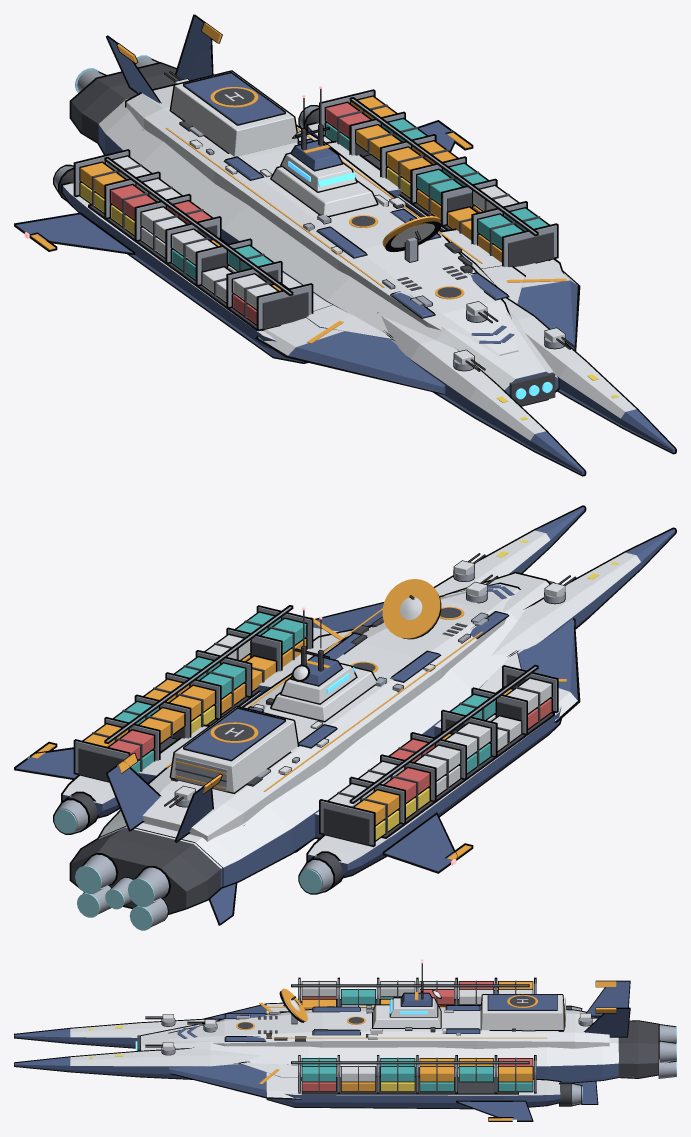
Rendered from Destroyer_Explorer.fbx.
3 views of the same model, one above another, from view 1: azimuth 30°, elevation 25°; view 2: azimuth 150°, elevation 25°; view 3: azimuth 270°, elevation 25° (orthographic). The views are drawn at different scales.
Visible parts, largest first — view 1: Hull_Deck, Hull_Main, Hull_Bow_L, Delta_L, Hull_Bow_R, Hangar_Body, Module_L, Delta_R, Engine_Block, Wing_L, Bridge_Base, Hangar_Roof (+26 smaller); view 2: Hull_Deck, Hull_Main, Engine_Block, Hull_Bow_L, Module_L, Hangar_Body, Hull_Bow_R, Delta_L, Wing_L, Dish_Rim, Hangar_Roof, Bridge_Base (+35 smaller); view 3: Hull_Deck, Hull_Main, Hull_Bow_R, Module_R, Delta_R, Hull_Bow_L, Engine_Block, Hangar_Body, Rack_Floor_R, Wing_R, Bridge_Base, Rack_Spine_R (+34 smaller).
Part boxes in pixels (<box>): Hull_Deck: <box>125,80,519,356</box>; Hull_Main: <box>96,98,559,406</box>; Hull_Bow_L: <box>377,312,586,476</box>; Delta_L: <box>255,305,445,394</box>; Hull_Bow_R: <box>503,297,676,454</box>; Hangar_Body: <box>169,70,298,156</box>; Module_L: <box>61,181,307,363</box>; Delta_R: <box>479,260,580,350</box>; Engine_Block: <box>69,62,178,144</box>; Wing_L: <box>14,212,135,255</box>; Bridge_Base: <box>270,166,378,217</box>; Hangar_Roof: <box>183,72,285,125</box>; Hull_Deck: <box>125,582,520,841</box>; Hull_Main: <box>96,572,550,888</box>; Engine_Block: <box>69,825,223,914</box>; Hull_Bow_L: <box>492,527,676,655</box>; Module_L: <box>306,706,561,878</box>; Hangar_Body: <box>169,705,299,793</box>; Hull_Bow_R: <box>434,505,586,595</box>; Delta_L: <box>508,618,580,722</box>; Wing_L: <box>382,812,457,873</box>; Dish_Rim: <box>382,579,440,638</box>; Hangar_Roof: <box>183,707,285,761</box>; Bridge_Base: <box>270,666,377,722</box>; Hull_Deck: <box>168,1005,609,1048</box>; Hull_Main: <box>140,1020,621,1083</box>; Hull_Bow_R: <box>14,1047,260,1079</box>; Module_R: <box>266,1078,561,1109</box>; Delta_R: <box>169,1062,301,1099</box>; Hull_Bow_L: <box>14,1018,221,1048</box>; Engine_Block: <box>617,1020,658,1078</box>; Hangar_Body: <box>480,994,564,1030</box>; Rack_Floor_R: <box>301,1076,518,1094</box>; Wing_R: <box>456,1100,533,1121</box>; Bridge_Base: <box>372,1004,441,1028</box>; Rack_Spine_R: <box>291,1061,529,1064</box>.
Bounding box in the file's own units: 45.4 × 20.79 × 94.5.
